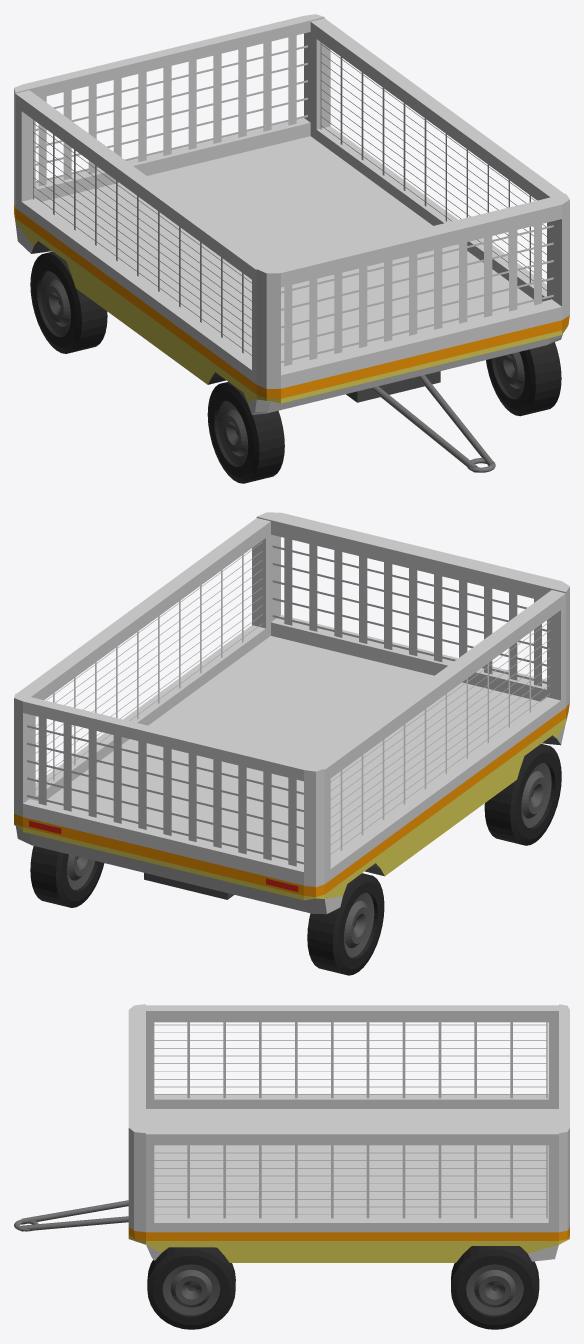
The model's file is Cart.fbx.
3 views of the same model, one above another, from view 1: azimuth 30°, elevation 25°; view 2: azimuth 150°, elevation 25°; view 3: azimuth 270°, elevation 25° (orthographic). The views are drawn at different scales.
Parts seen in each view (by area): view 1: Cart, RightSide, LeftSide, CartFrontRight, CartBackRight, CartFrontLeft; view 2: Cart, RightSide, LeftSide, CartBackRight, CartFrontRight, CartBackLeft; view 3: Cart, LeftSide, RightSide, CartBackLeft, CartFrontLeft.
Part boxes in pixels (x1,y1,x2,y2): Cart: [14, 14, 569, 472]; RightSide: [15, 90, 268, 384]; LeftSide: [310, 18, 564, 301]; CartFrontRight: [207, 381, 284, 483]; CartBackRight: [30, 251, 107, 353]; CartFrontLeft: [486, 342, 561, 416]; Cart: [14, 512, 569, 914]; RightSide: [312, 590, 565, 883]; LeftSide: [17, 518, 270, 800]; CartBackRight: [307, 873, 384, 975]; CartFrontRight: [484, 743, 561, 845]; CartBackLeft: [30, 846, 104, 907]; Cart: [14, 1004, 569, 1262]; LeftSide: [146, 1128, 558, 1232]; RightSide: [146, 1005, 558, 1108]; CartBackLeft: [451, 1246, 539, 1329]; CartFrontLeft: [147, 1247, 235, 1329].
Bounding box in the file's own units: 1.85 × 3.37 × 1.32.
